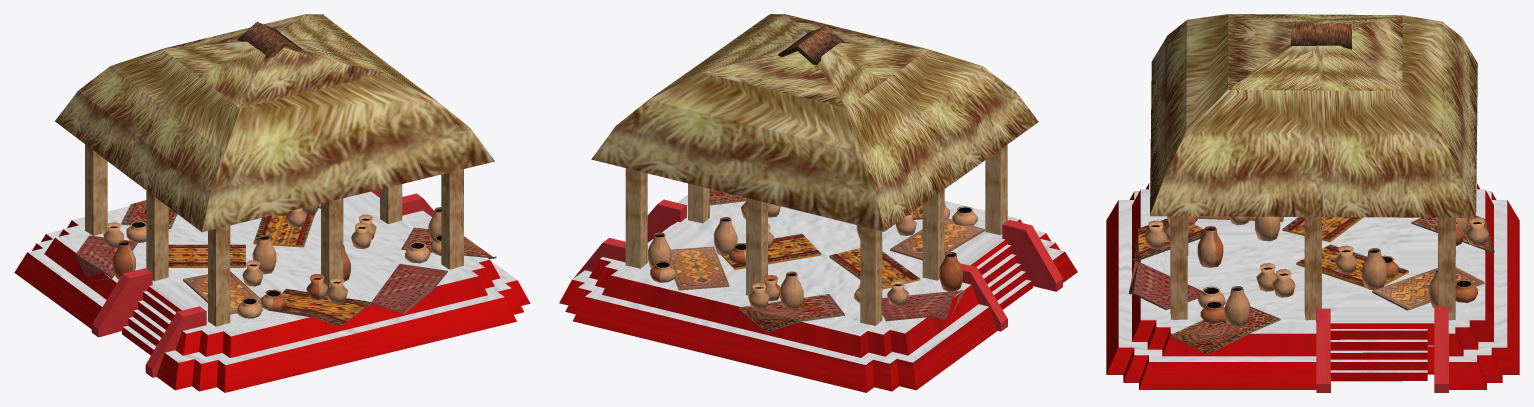
Rendered from quiosque_1.dae.
The picture shows the model from 3 angles, left to right: view 1: azimuth 30°, elevation 25°; view 2: azimuth 150°, elevation 25°; view 3: azimuth 270°, elevation 25°; orthographic projection. The views are drawn at different scales.
Parts seen in each view (by area): view 1: quiosque_1; view 2: quiosque_1; view 3: quiosque_1.
Boxes of the visible parts, x1,y1,x2,y2 form: quiosque_1: (14,14,530,392); quiosque_1: (559,14,1077,392); quiosque_1: (1106,14,1519,392).
Size of the model in its own units: 14.95 by 13.54 by 10.01.
